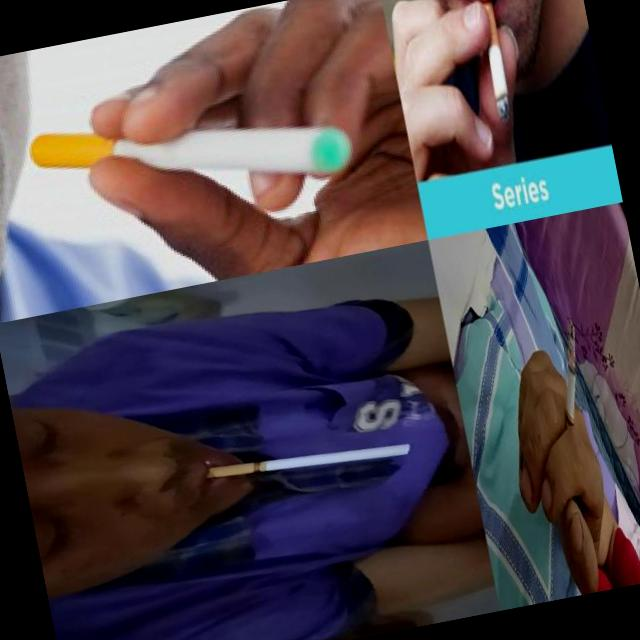cigarette: (26, 75, 357, 230), (202, 426, 416, 494), (543, 318, 598, 452), (476, 0, 516, 125)
